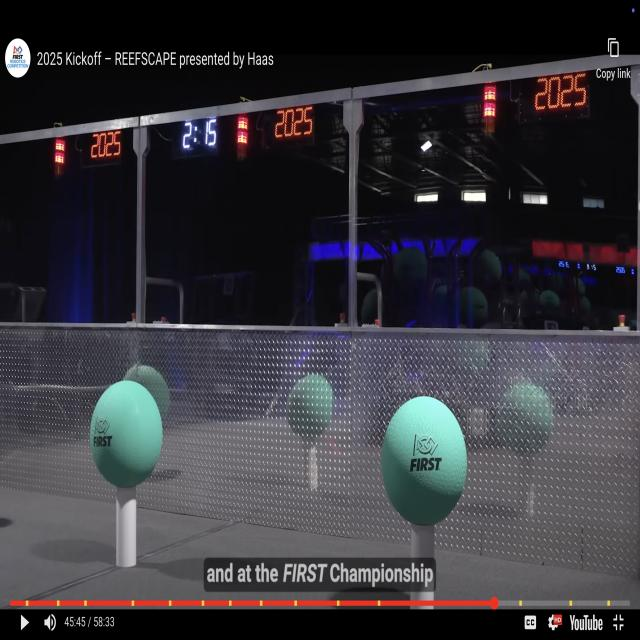algae: (381, 396, 467, 526), (90, 380, 163, 488)
